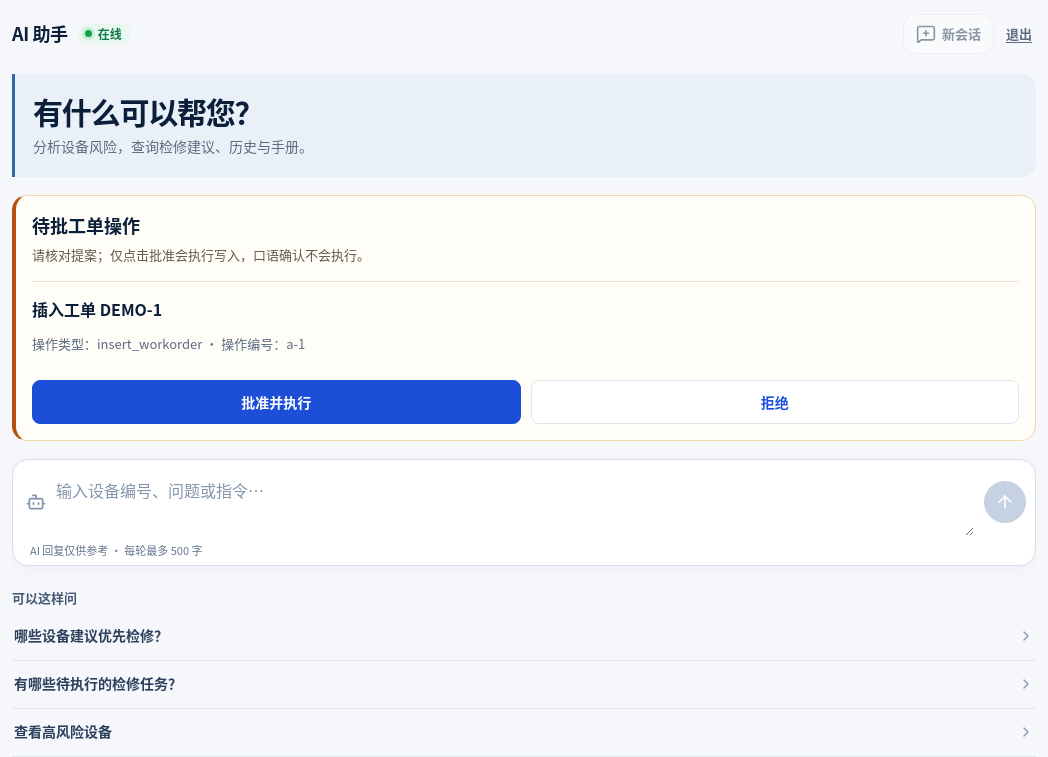
Test: pending approval and rejection use explicit ids and block new session until resolved
Expected: the text "插入工单 DEMO-1" is shown, [32,297,162,321]
Expected: the button "新会话" is disabled, [903,14,994,54]
Click the button with aria-label "批准并执行：插入工单 DEMO-1" at (276, 402), box [32,380,520,424]
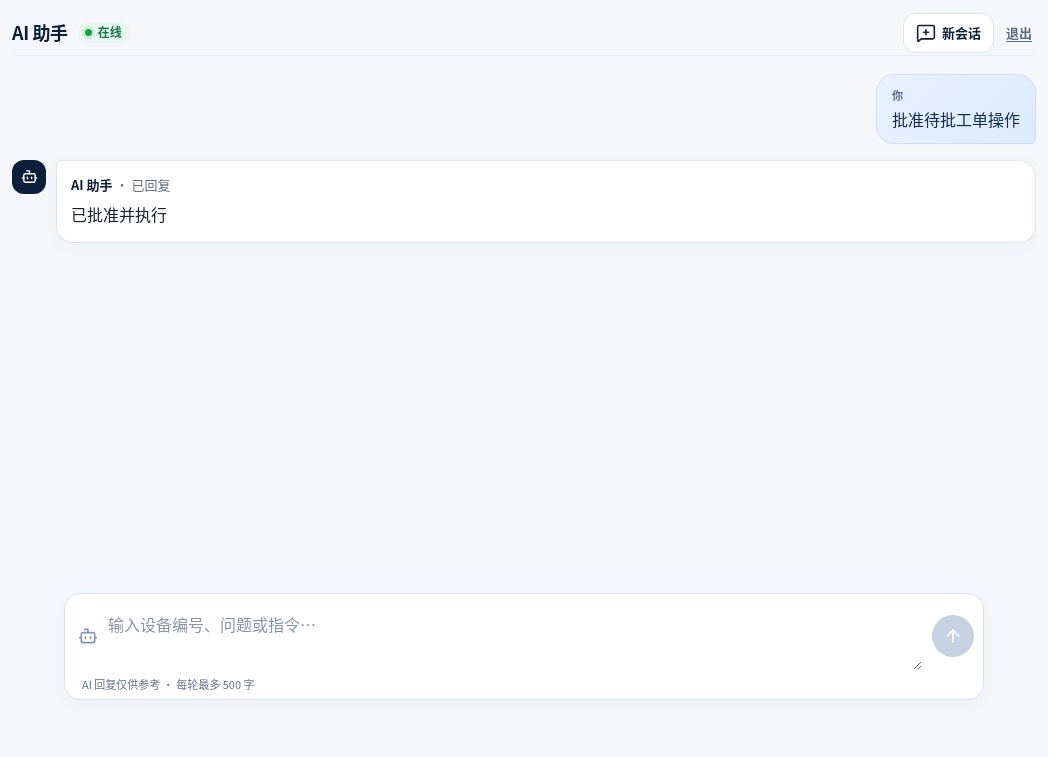
Now the text "已批准并执行" is shown, box [71,202,167,226]
Now the button "新会话" is enabled
Click the button "新会话" at (948, 32), box [903,12,994,52]
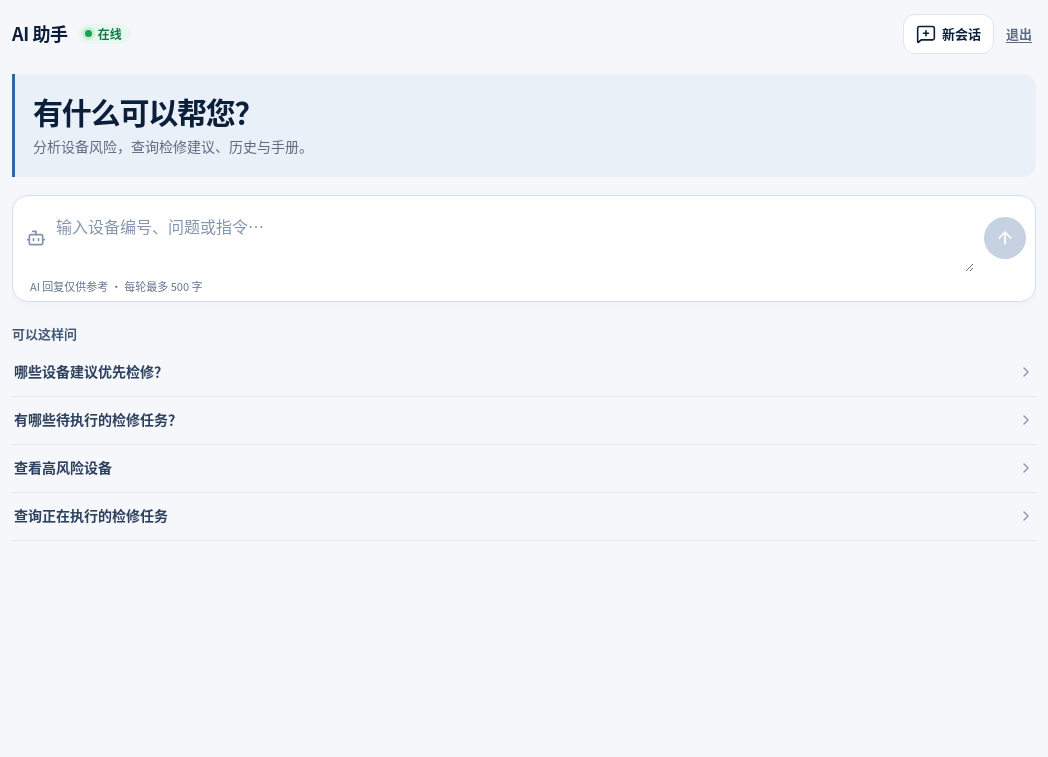
Now the text "已批准并执行" is gone
